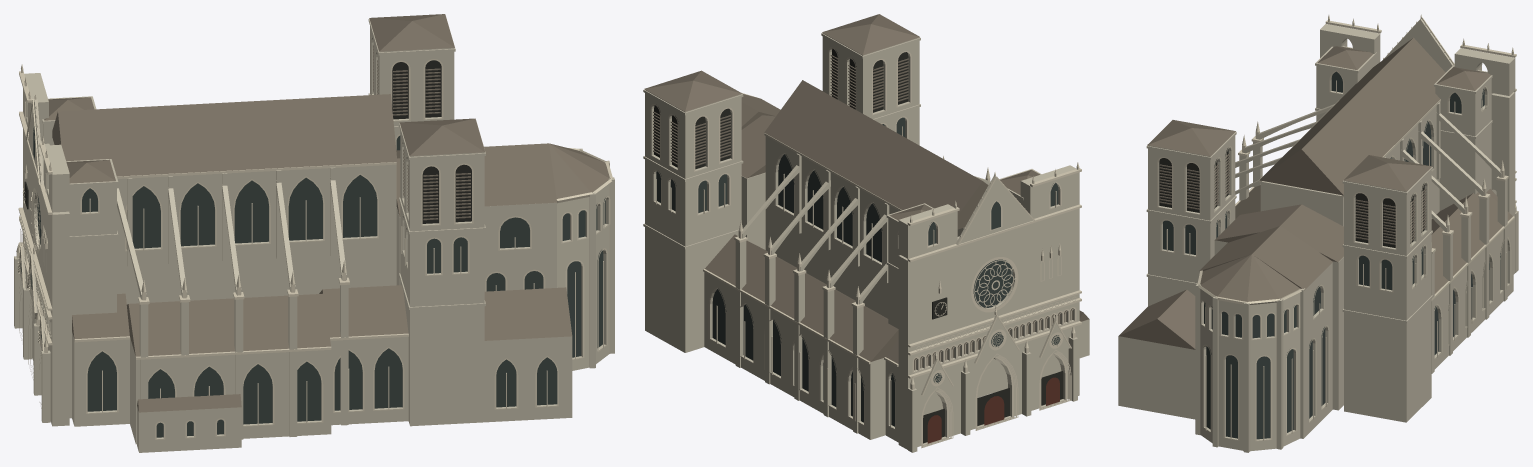
Rendered from cathedrale-saint-jean-lyon-near.glb.
The picture shows the model from 3 angles, left to right: view 1: azimuth 30°, elevation 25°; view 2: azimuth 150°, elevation 25°; view 3: azimuth 270°, elevation 25°; orthographic projection. The views are drawn at different scales.
Parts seen in each view (by area): view 1: cathedrale-saint-jean-lyon-0-stone, cathedrale-saint-jean-lyon-0-roof, cathedrale-saint-jean-lyon-0-glass, cathedrale-saint-jean-lyon-0-trim, cathedrale-saint-jean-lyon-0-recess; view 2: cathedrale-saint-jean-lyon-0-stone, cathedrale-saint-jean-lyon-0-roof, cathedrale-saint-jean-lyon-0-trim, cathedrale-saint-jean-lyon-0-glass, cathedrale-saint-jean-lyon-0-recess, cathedrale-saint-jean-lyon-0-door; view 3: cathedrale-saint-jean-lyon-0-stone, cathedrale-saint-jean-lyon-0-roof, cathedrale-saint-jean-lyon-0-trim, cathedrale-saint-jean-lyon-0-glass, cathedrale-saint-jean-lyon-0-recess.
Boxes of the visible parts, left/top/right/bottom form: cathedrale-saint-jean-lyon-0-stone: left=14, top=18, right=614, bottom=452; cathedrale-saint-jean-lyon-0-roof: left=44, top=14, right=609, bottom=412; cathedrale-saint-jean-lyon-0-glass: left=20, top=127, right=605, bottom=437; cathedrale-saint-jean-lyon-0-trim: left=16, top=36, right=612, bottom=439; cathedrale-saint-jean-lyon-0-recess: left=24, top=60, right=471, bottom=223; cathedrale-saint-jean-lyon-0-stone: left=643, top=33, right=1089, bottom=452; cathedrale-saint-jean-lyon-0-roof: left=644, top=14, right=1089, bottom=370; cathedrale-saint-jean-lyon-0-trim: left=650, top=47, right=1081, bottom=448; cathedrale-saint-jean-lyon-0-glass: left=656, top=117, right=1060, bottom=426; cathedrale-saint-jean-lyon-0-recess: left=654, top=48, right=1063, bottom=443; cathedrale-saint-jean-lyon-0-door: left=927, top=377, right=1059, bottom=443; cathedrale-saint-jean-lyon-0-stone: left=1118, top=19, right=1518, bottom=452; cathedrale-saint-jean-lyon-0-roof: left=1119, top=37, right=1512, bottom=349; cathedrale-saint-jean-lyon-0-trim: left=1157, top=14, right=1516, bottom=441; cathedrale-saint-jean-lyon-0-glass: left=1163, top=71, right=1500, bottom=439; cathedrale-saint-jean-lyon-0-recess: left=1159, top=148, right=1424, bottom=247.
Bounding box in the file's own units: 84.2 × 44 × 66.11.
